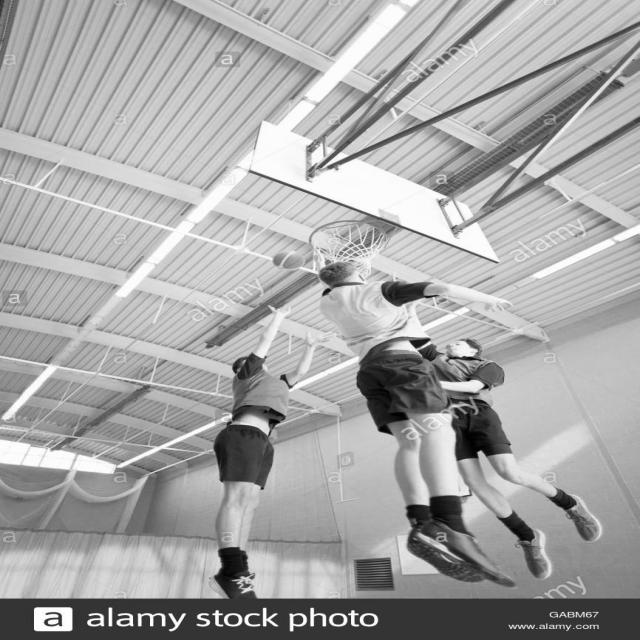person: (264, 229, 528, 591), (423, 330, 602, 577), (214, 303, 310, 589)
